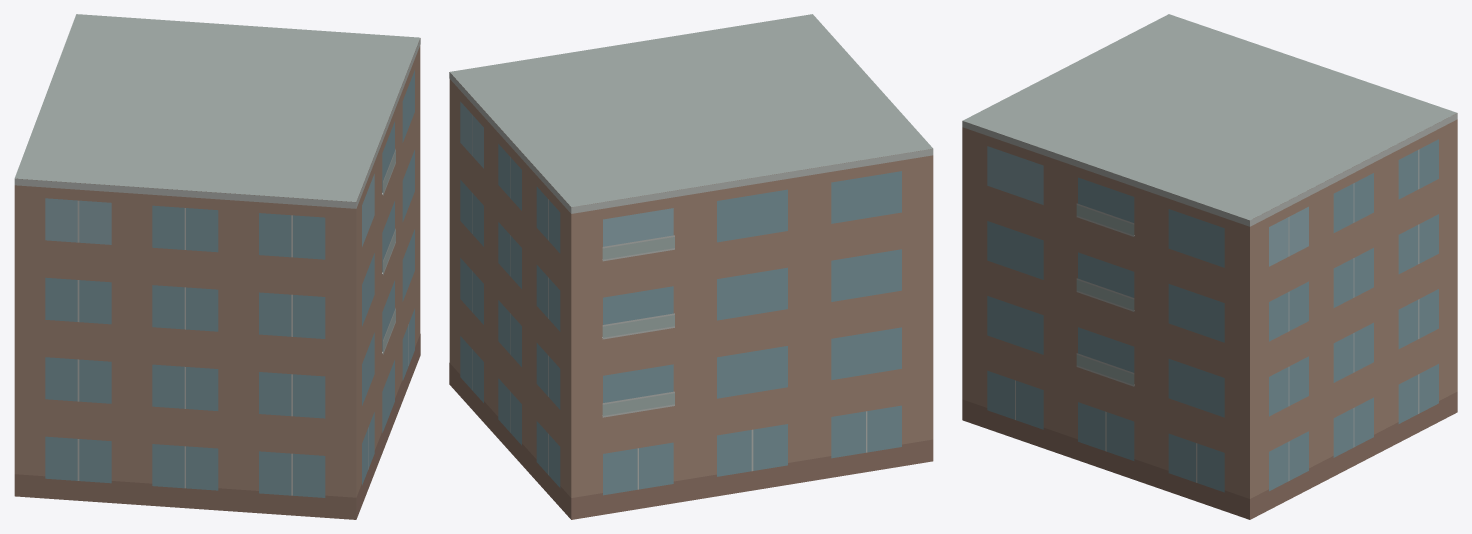
Rendered from survey-upis-32702912.glb.
3 renders of one model, left to right at view 1: azimuth 30°, elevation 25°; view 2: azimuth 150°, elevation 25°; view 3: azimuth 270°, elevation 25°, orthographic. The views are drawn at different scales.
Parts seen in each view (by area): view 1: survey-upis-32702912.tmp; view 2: survey-upis-32702912.tmp; view 3: survey-upis-32702912.tmp.
Part boxes in pixels (x1,y1,x2,y2): survey-upis-32702912.tmp: (14,14,420,519); survey-upis-32702912.tmp: (449,14,933,519); survey-upis-32702912.tmp: (962,14,1457,519).
Bounding box in the file's own units: 16.92 × 11.44 × 17.15.
